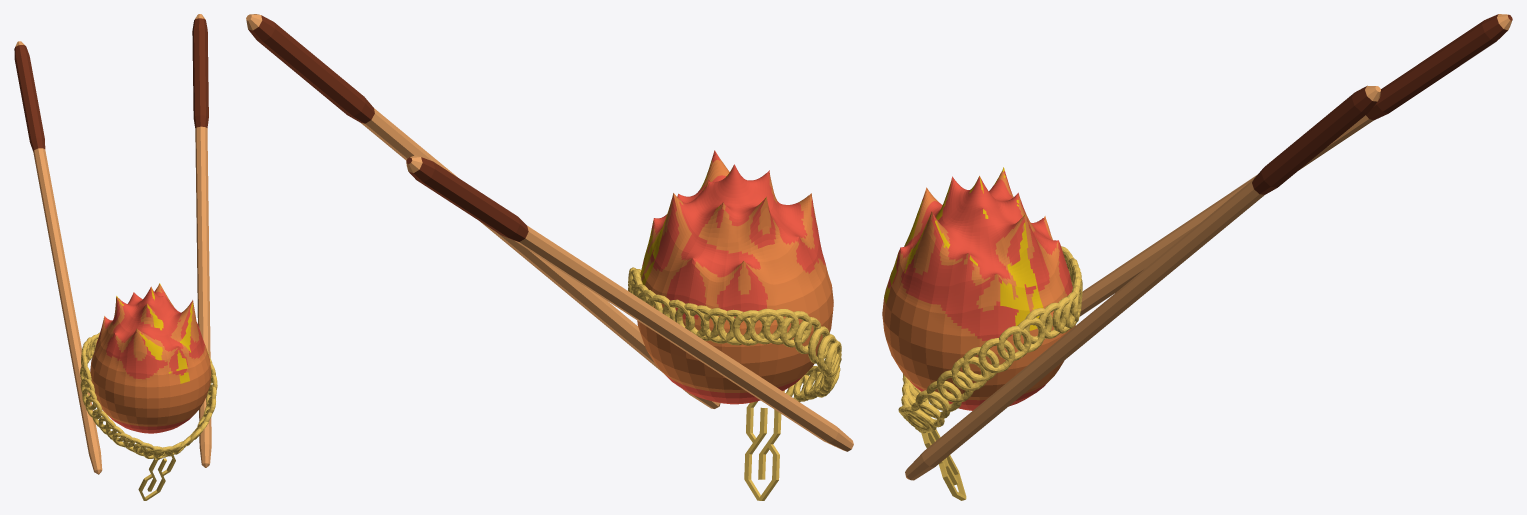
Rendered from RiceOnFireWithAGoldChainBeingEaten.fbx.
3 renders of one model, left to right at view 1: azimuth 30°, elevation 25°; view 2: azimuth 150°, elevation 25°; view 3: azimuth 270°, elevation 25°, orthographic. The views are drawn at different scales.
Parts seen in each view (by area): view 1: Sphere, Cylinder.001, Cylinder, Cube.009; view 2: Sphere, Cylinder.001, Cube.009, Cylinder; view 3: Sphere, Cylinder, Cube.009, Cylinder.001.
Part boxes in pixels (bbox=[...]): Sphere: bbox=[90, 283, 211, 433]; Cylinder.001: bbox=[14, 41, 102, 474]; Cylinder: bbox=[192, 14, 211, 467]; Cube.009: bbox=[80, 332, 217, 500]; Sphere: bbox=[637, 150, 833, 404]; Cylinder.001: bbox=[406, 155, 853, 451]; Cube.009: bbox=[628, 267, 841, 500]; Cylinder: bbox=[246, 14, 720, 408]; Sphere: bbox=[882, 167, 1075, 410]; Cylinder: bbox=[905, 85, 1380, 480]; Cube.009: bbox=[898, 246, 1082, 500]; Cylinder.001: bbox=[1079, 14, 1512, 316].
Size of the model in its own units: 426 by 588 by 602.
